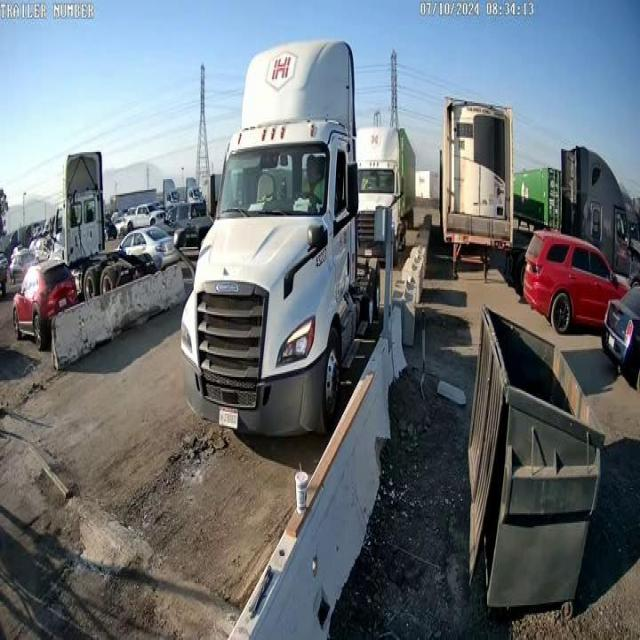BOBTAIL: (172, 38, 379, 434)
TRUCK_CONTAINER: (358, 125, 417, 255)
